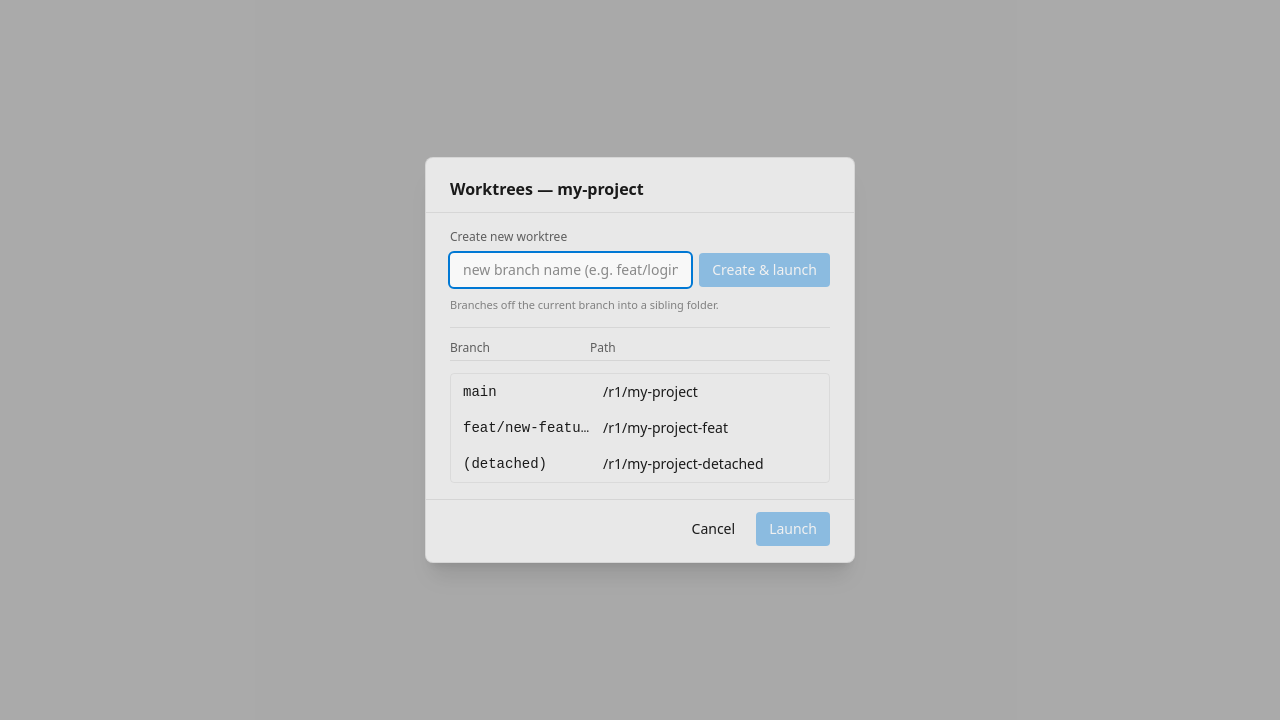
it: WorktreePickerDialog › shows a live resolved path preview as the branch is typed
The image size is (1280, 720).
In the field named "new worktree branch name": [571, 270] box [450,253,691,287], type "feat/x"
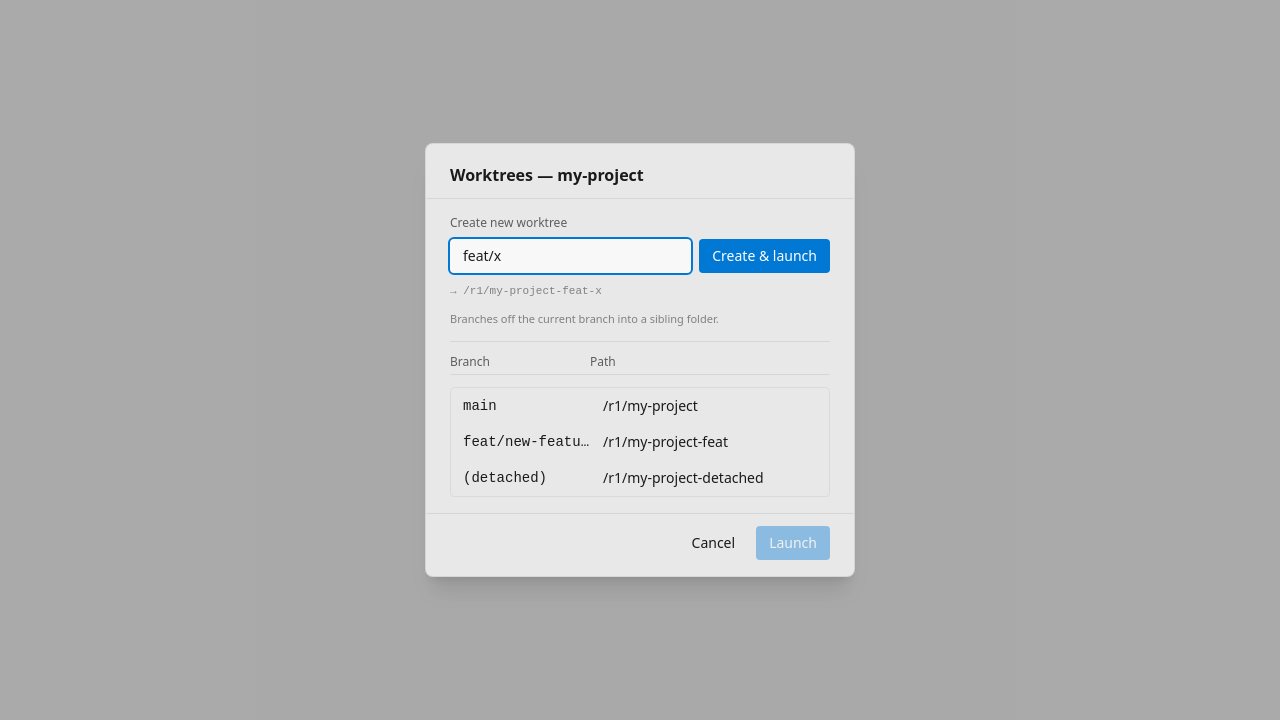
Now the text "→ /r1/my-project-feat-x" is shown, box [450,285,602,297]
Now the button "Create & launch" is enabled, box [699,239,830,273]
